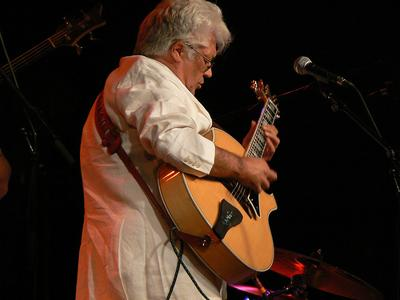person: (74, 2, 281, 300)
